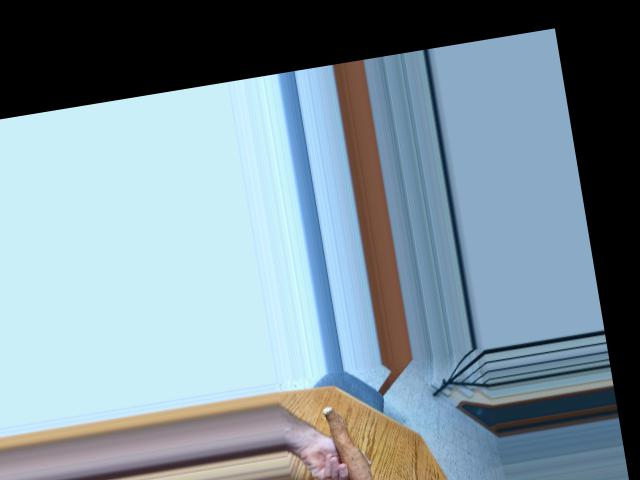sweet_potato: (321, 402, 384, 480)
